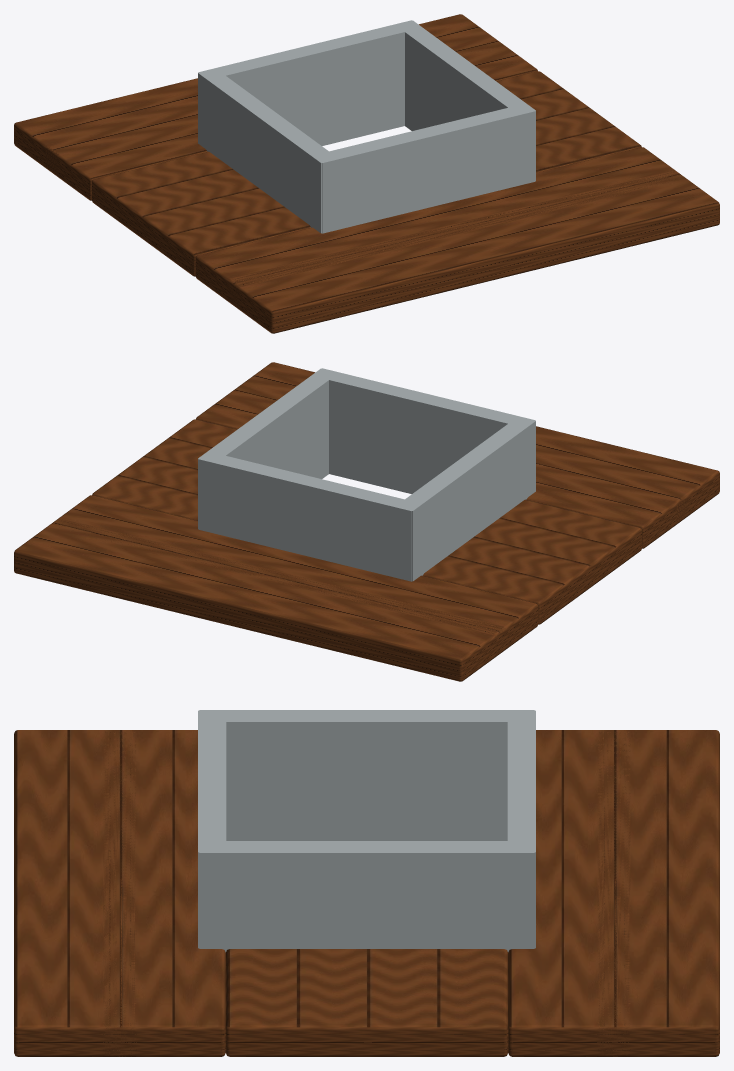
Rendered from modular-survival-base-builder-roof-access-collar-ab7944d7__24184.glb.
3 views of the same model, one above another, from view 1: azimuth 30°, elevation 25°; view 2: azimuth 150°, elevation 25°; view 3: azimuth 270°, elevation 25° (orthographic). The views are drawn at different scales.
Parts seen in each view (by area): view 1: roof-access-collar; view 2: roof-access-collar; view 3: roof-access-collar.
Part boxes in pixels (x1,y1,x2,y2): roof-access-collar: (14, 14, 719, 333); roof-access-collar: (14, 362, 719, 681); roof-access-collar: (14, 710, 719, 1056).
Size of the model in its own units: 2 by 0.4 by 2.
Materials: 2 (1 with a texture image).
